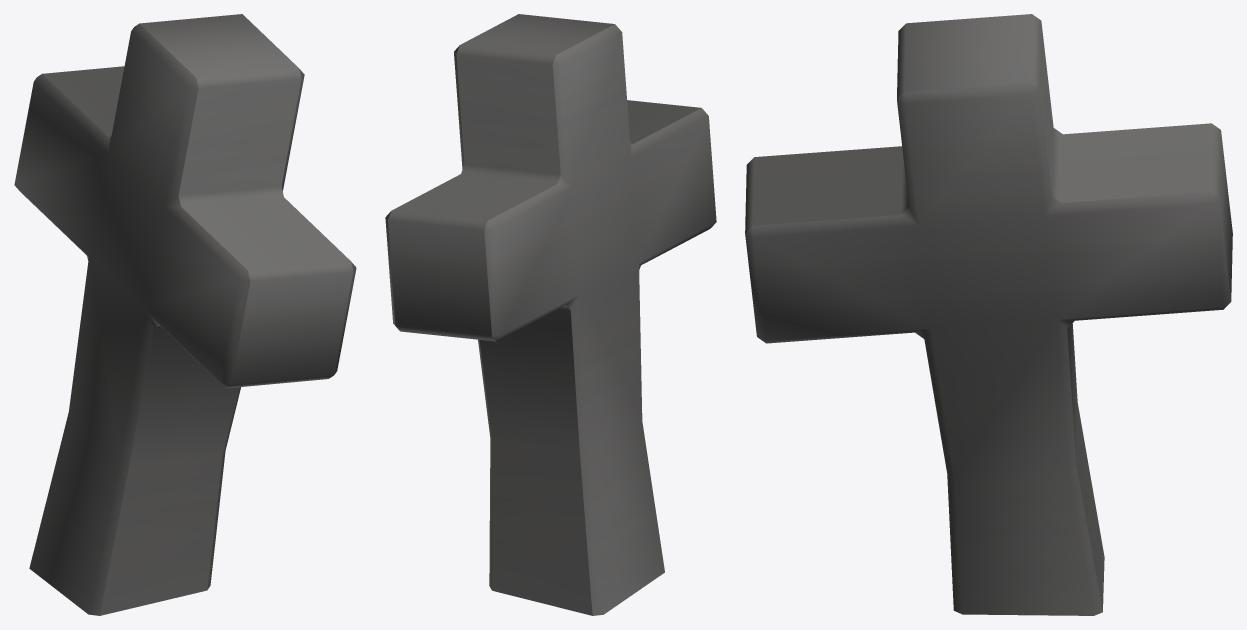
The model's file is Cross_1_2.obj.
3 views of the same model, side by side, from view 1: azimuth 30°, elevation 25°; view 2: azimuth 150°, elevation 25°; view 3: azimuth 270°, elevation 25° (orthographic). The views are drawn at different scales.
Visible parts, largest first — view 1: Cross_1_2; view 2: Cross_1_2; view 3: Cross_1_2.
Part boxes in pixels (bbox=[...]): Cross_1_2: bbox=[14, 14, 356, 615]; Cross_1_2: bbox=[385, 14, 716, 615]; Cross_1_2: bbox=[745, 14, 1232, 615].
Bounding box in the file's own units: 0.3576 × 0.9797 × 0.7459.
